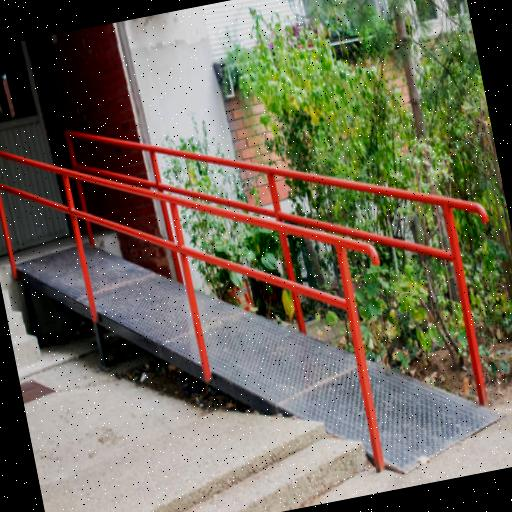ramp: (12, 175, 507, 512)
